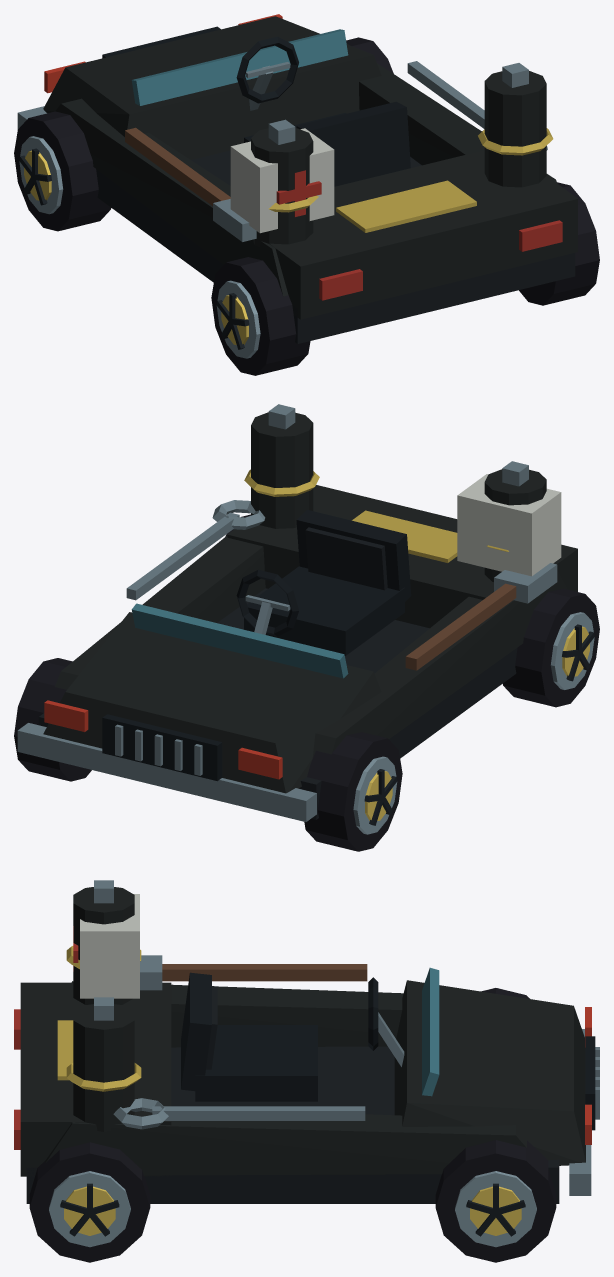
Rendered from kart.glb.
The picture shows the model from 3 angles, top to bottom: view 1: azimuth 30°, elevation 25°; view 2: azimuth 150°, elevation 25°; view 3: azimuth 270°, elevation 25°; orthographic projection. The views are drawn at different scales.
Visible parts, largest first — view 1: identity-sedan-sedan-road-car-body, identity-sedan-motif-tanks, wheel-front-left, identity-sedan-driver-cockpit, wheel-rear-left, identity-sedan-motif-medical, identity-sedan-motif-tools, wheel-rear-right, wheel-front-right; view 2: identity-sedan-sedan-road-car-body, identity-sedan-driver-cockpit, identity-sedan-motif-tanks, wheel-front-left, wheel-rear-left, identity-sedan-motif-medical, identity-sedan-motif-tools, wheel-front-right; view 3: identity-sedan-sedan-road-car-body, identity-sedan-driver-cockpit, wheel-front-right, wheel-rear-right, identity-sedan-motif-tanks, identity-sedan-motif-tools, identity-sedan-motif-medical.
Part boxes in pixels (x1=…): identity-sedan-sedan-road-car-body: x1=17, y1=14, x2=577, y2=343; identity-sedan-motif-tanks: x1=251, y1=63, x2=553, y2=246; wheel-front-left: x1=14, y1=111, x2=111, y2=231; identity-sedan-driver-cockpit: x1=236, y1=36, x2=410, y2=186; wheel-rear-left: x1=211, y1=257, x2=310, y2=375; identity-sedan-motif-medical: x1=230, y1=128, x2=334, y2=233; identity-sedan-motif-tools: x1=125, y1=61, x2=547, y2=241; wheel-rear-right: x1=519, y1=182, x2=599, y2=305; wheel-front-right: x1=346, y1=37, x2=393, y2=73; identity-sedan-sedan-road-car-body: x1=17, y1=485, x2=577, y2=821; identity-sedan-driver-cockpit: x1=236, y1=510, x2=411, y2=655; identity-sedan-motif-tanks: x1=244, y1=404, x2=546, y2=581; wheel-front-left: x1=304, y1=732, x2=402, y2=851; wheel-rear-left: x1=503, y1=588, x2=599, y2=707; identity-sedan-motif-medical: x1=457, y1=474, x2=561, y2=576; identity-sedan-motif-tools: x1=126, y1=500, x2=557, y2=670; wheel-front-right: x1=14, y1=658, x2=91, y2=781; identity-sedan-sedan-road-car-body: x1=14, y1=967, x2=599, y2=1203; identity-sedan-driver-cockpit: x1=181, y1=972, x2=404, y2=1101; wheel-front-right: x1=435, y1=1140, x2=556, y2=1262; wheel-rear-right: x1=29, y1=1142, x2=150, y2=1262; identity-sedan-motif-tanks: x1=66, y1=880, x2=141, y2=1131; identity-sedan-motif-tools: x1=113, y1=955, x2=367, y2=1129; identity-sedan-motif-medical: x1=73, y1=894, x2=139, y2=998.
Size of the model in its own units: 2.07 by 1.3 by 2.92.
